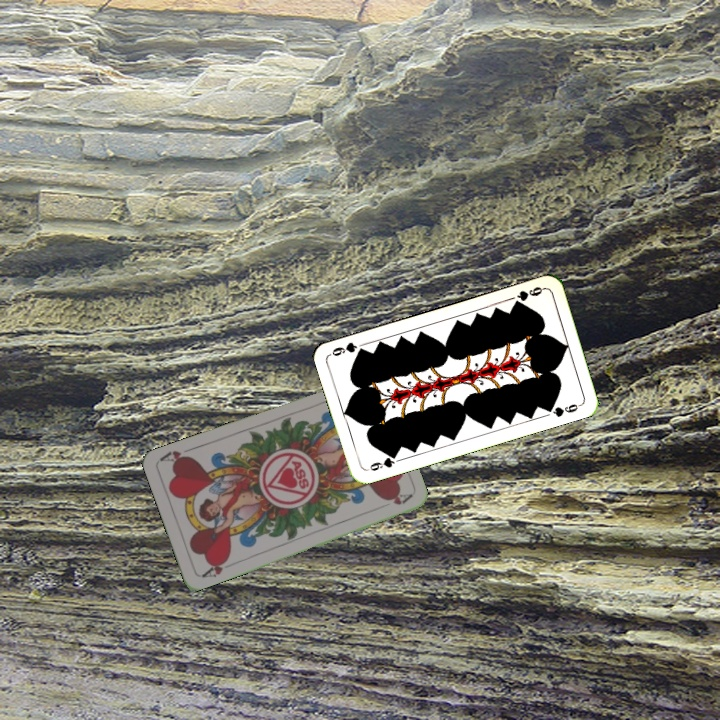G9: (510, 282, 547, 308), (362, 450, 402, 474)
HA: (198, 554, 236, 580)
